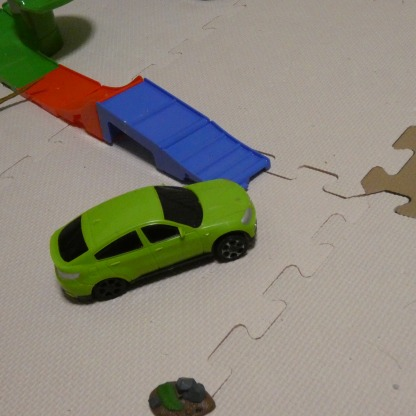car: (49, 178, 262, 311)
